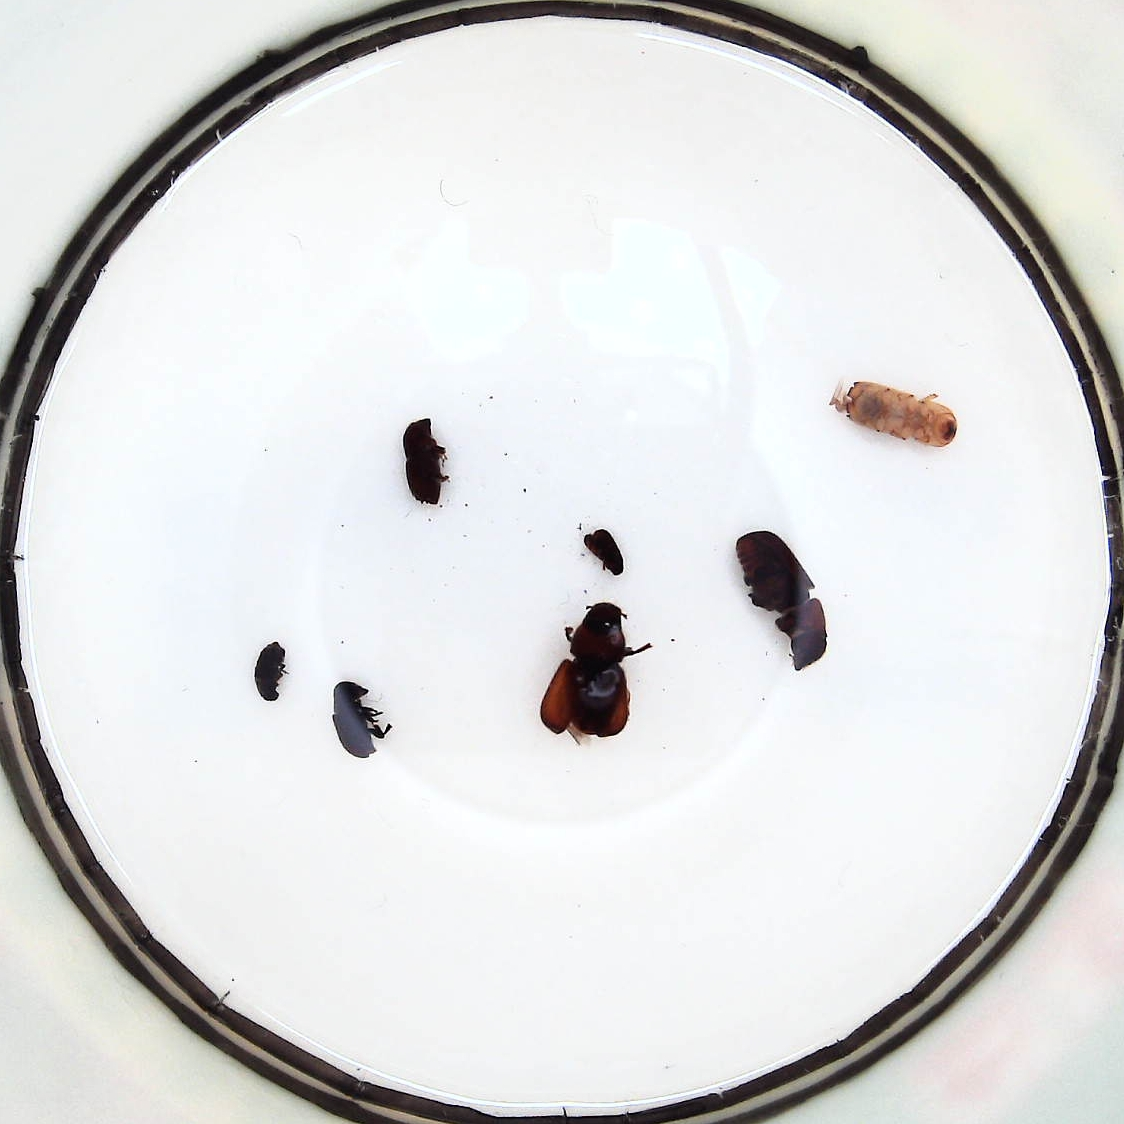Boerner: (844, 382, 956, 447)
Leconte: (736, 530, 827, 671), (540, 604, 629, 736)
acuminatus: (254, 641, 286, 702)
armandi: (331, 682, 377, 759)
coleoptera: (584, 527, 624, 576)
linnaeus: (403, 419, 443, 506)
